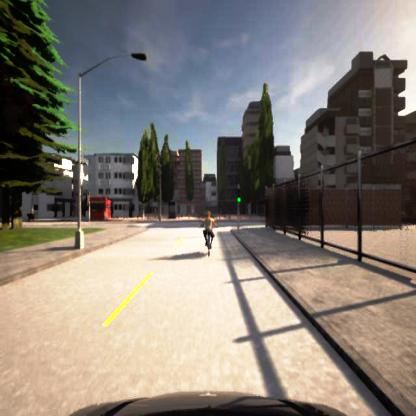bike: (201, 211, 216, 256)
